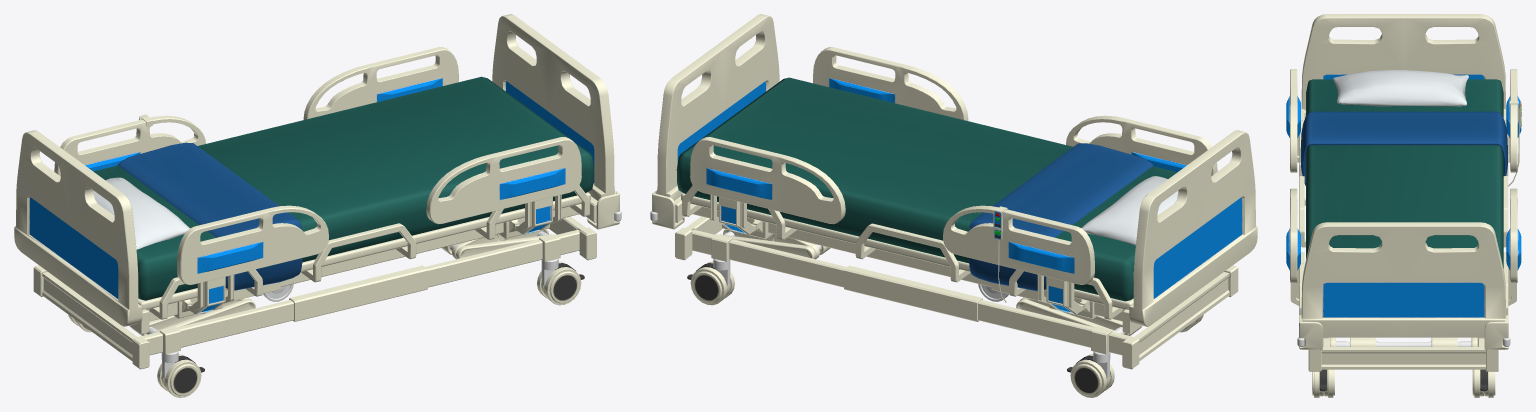
The model's file is Bed.fbx.
3 views of the same model, side by side, from view 1: azimuth 30°, elevation 25°; view 2: azimuth 150°, elevation 25°; view 3: azimuth 270°, elevation 25° (orthographic). The views are drawn at different scales.
Parts seen in each view (by area): view 1: Bed5; view 2: Bed5; view 3: Bed5.
Part boxes in pixels (x1,y1,x2,y2): Bed5: [14, 14, 621, 397]; Bed5: [650, 14, 1257, 397]; Bed5: [1286, 14, 1521, 397].
Bounding box in the file's own units: 226 × 92.68 × 104.
